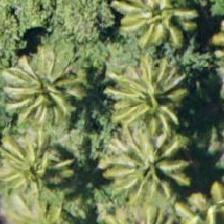coconut_tree: (105, 54, 195, 144), (101, 124, 191, 214), (3, 50, 93, 140), (0, 119, 81, 209), (107, 0, 197, 57)
